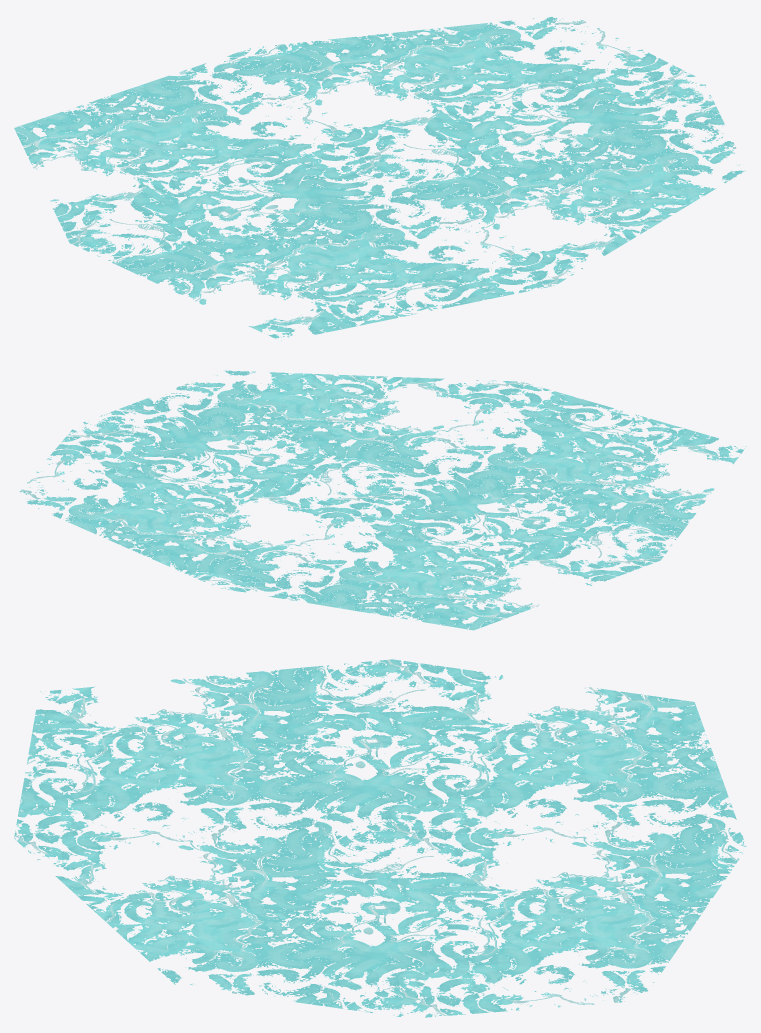
The model's file is Water_Pond_01_Art.glb.
The picture shows the model from 3 angles, top to bottom: view 1: azimuth 30°, elevation 25°; view 2: azimuth 150°, elevation 25°; view 3: azimuth 270°, elevation 25°; orthographic projection. The views are drawn at different scales.
Parts seen in each view (by area): view 1: Water_Pond_01_Art; view 2: Water_Pond_01_Art; view 3: Water_Pond_01_Art.
Boxes of the visible parts, bbox=[...] form: Water_Pond_01_Art: bbox=[14, 17, 745, 340]; Water_Pond_01_Art: bbox=[19, 370, 746, 630]; Water_Pond_01_Art: bbox=[14, 659, 746, 1017].
Size of the model in its own units: 14.05 by 1.97e-06 by 12.11.
Materials: 1 (1 with a texture image).
